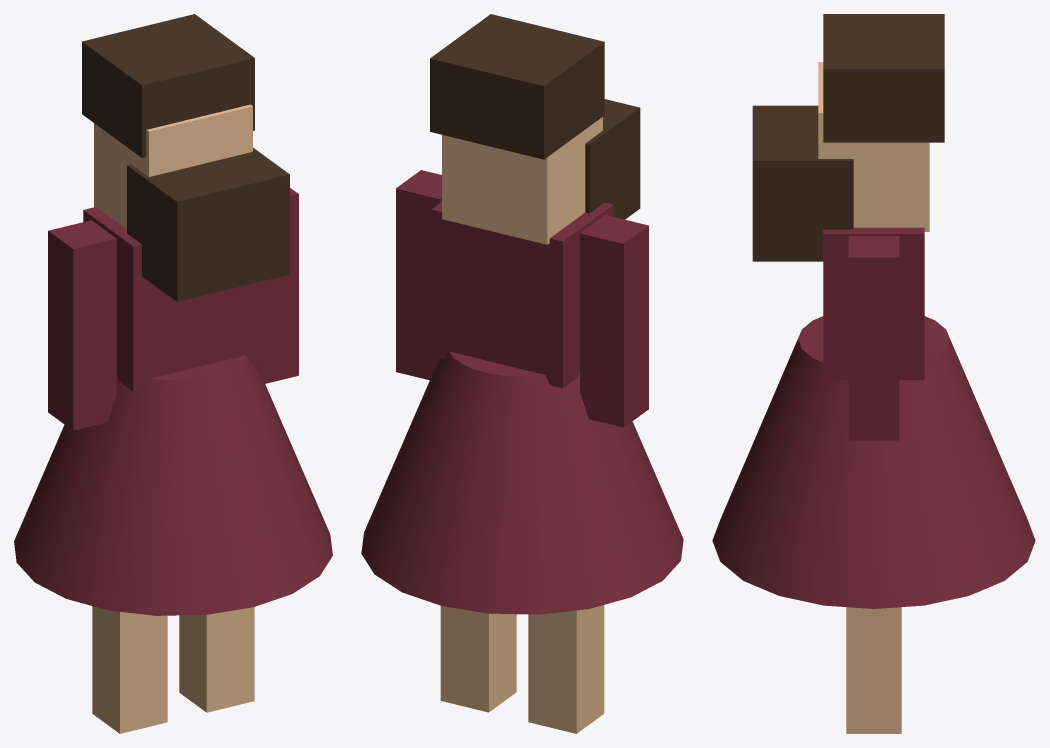
The model's file is avatar-female.glb.
3 views of the same model, side by side, from view 1: azimuth 30°, elevation 25°; view 2: azimuth 150°, elevation 25°; view 3: azimuth 270°, elevation 25° (orthographic).
Bounding box in the file's own units: 0.64 × 1.44 × 0.64.
